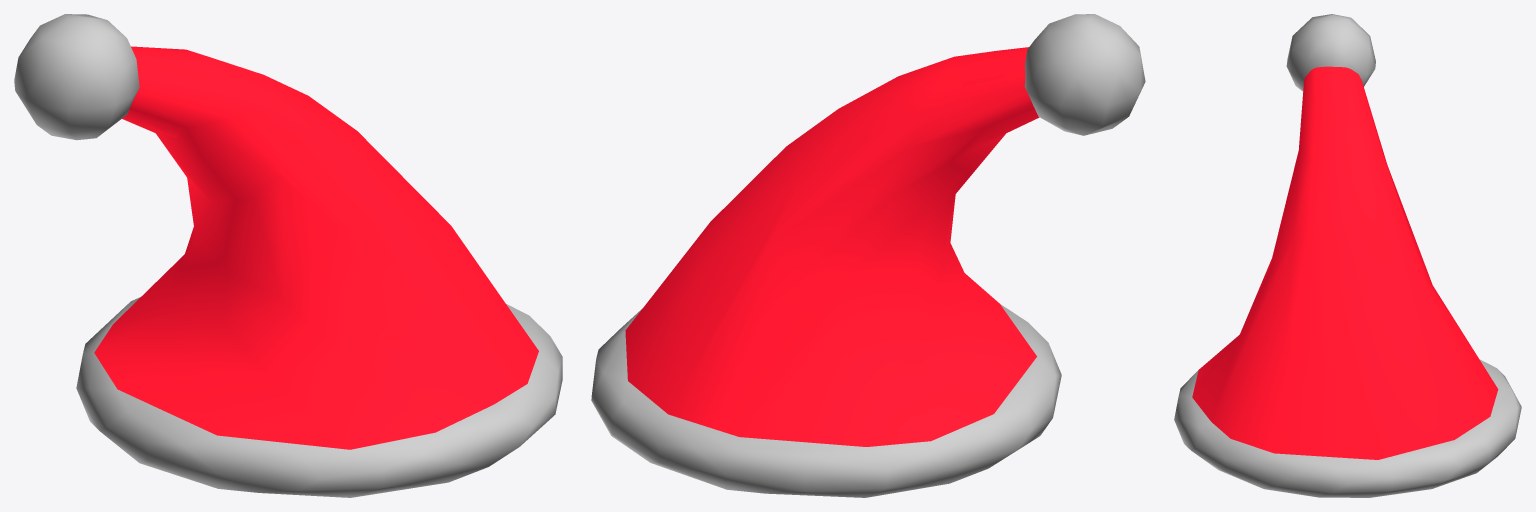
File: santa hat.fbx
The picture shows the model from 3 angles, left to right: view 1: azimuth 30°, elevation 25°; view 2: azimuth 150°, elevation 25°; view 3: azimuth 270°, elevation 25°; orthographic projection. The views are drawn at different scales.
Parts seen in each view (by area): view 1: Santa_Hat, Santa_Hat_1, Sphere; view 2: Santa_Hat, Santa_Hat_1, Sphere; view 3: Santa_Hat, Santa_Hat_1, Sphere.
Part boxes in pixels (bbox=[...]): Santa_Hat: bbox=[94, 46, 538, 449]; Santa_Hat_1: bbox=[76, 297, 562, 497]; Sphere: bbox=[14, 14, 139, 140]; Santa_Hat: bbox=[625, 47, 1039, 446]; Santa_Hat_1: bbox=[591, 304, 1061, 497]; Sphere: bbox=[1024, 14, 1145, 135]; Santa_Hat: bbox=[1192, 66, 1498, 459]; Santa_Hat_1: bbox=[1174, 359, 1521, 497]; Sphere: bbox=[1286, 14, 1375, 91].
Size of the model in its own units: 590 by 494 by 478.
